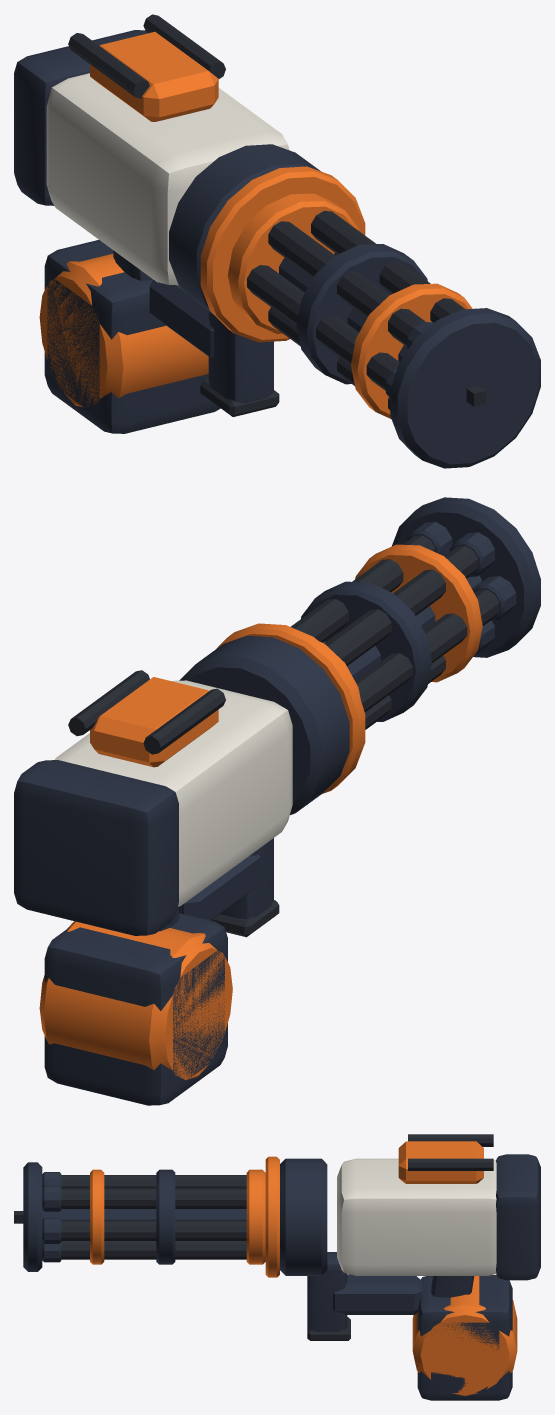
Rendered from wpn_gatling.fbx.
3 renders of one model, top to bottom at view 1: azimuth 30°, elevation 25°; view 2: azimuth 150°, elevation 25°; view 3: azimuth 270°, elevation 25°, orthographic. The views are drawn at different scales.
Visible parts, largest first — view 1: Body, Barrels; view 2: Body, Barrels; view 3: Body, Barrels.
Part boxes in pixels (x1,y1,x2,y2): Body: (14,14,540,468); Barrels: (227,193,472,418); Body: (14,497,540,1105); Barrels: (291,521,516,729); Body: (23,1134,540,1400); Barrels: (42,1169,265,1264).
Bounding box in the file's own units: 1.26 × 2.77 × 5.55.
Materials: 2 (1 with a texture image).
